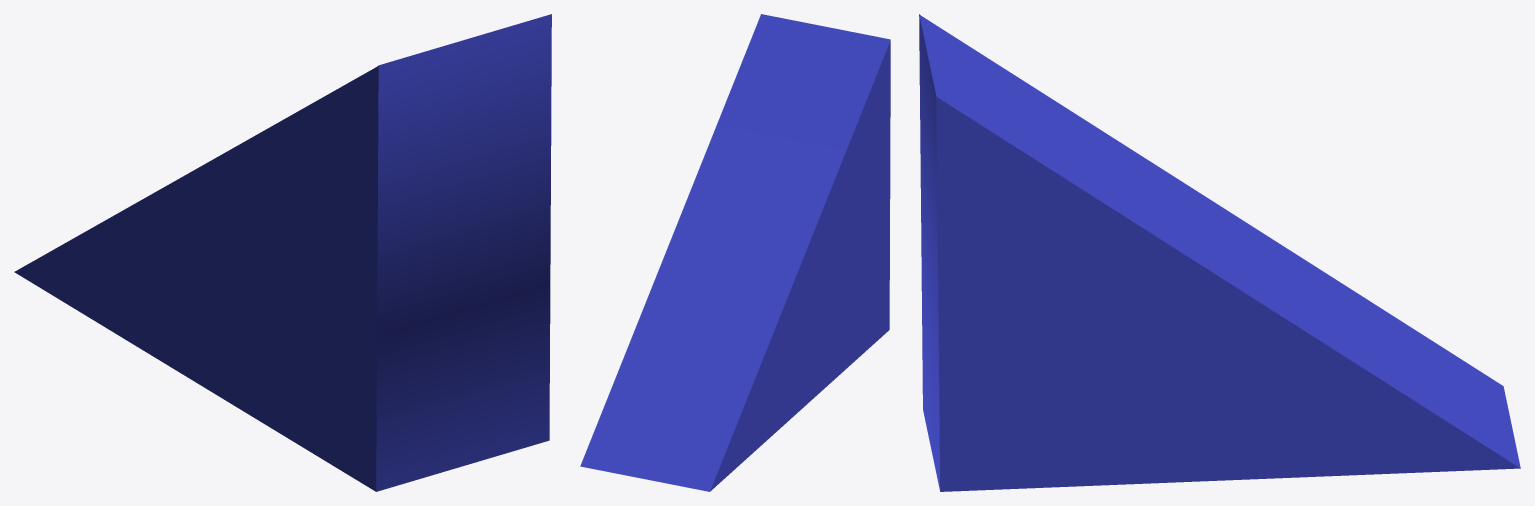
The model's file is Triangle 1.fbx.
3 views of the same model, side by side, from view 1: azimuth 30°, elevation 25°; view 2: azimuth 150°, elevation 25°; view 3: azimuth 270°, elevation 25° (orthographic). The views are drawn at different scales.
Visible parts, largest first — view 1: root; view 2: root; view 3: root.
Part boxes in pixels (<box>): root: <box>14,14,551,491</box>; root: <box>580,14,890,491</box>; root: <box>919,14,1520,491</box>.
Size of the model in its own units: 0.1261 by 0.2231 by 0.3075.
